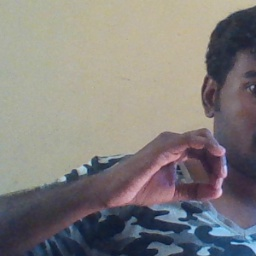O: (95, 127, 232, 206)
